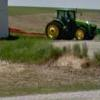Tractor: (39, 6, 100, 46)
